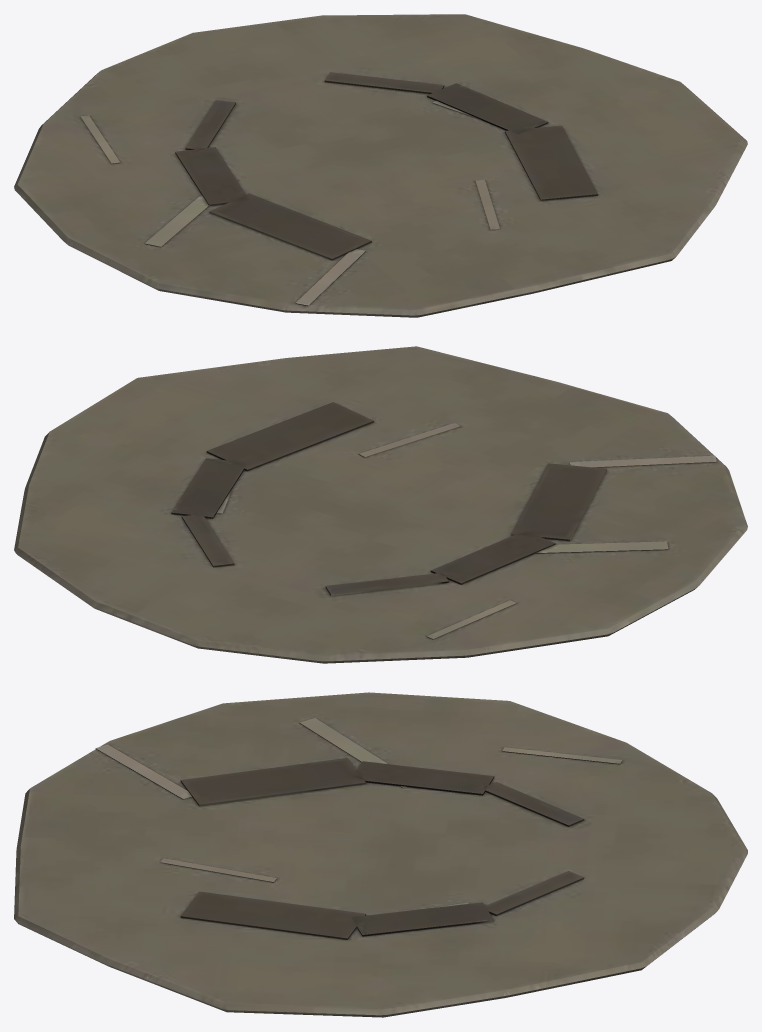
File: camp_mark_stilltusks.glb
The picture shows the model from 3 angles, top to bottom: view 1: azimuth 30°, elevation 25°; view 2: azimuth 150°, elevation 25°; view 3: azimuth 270°, elevation 25°; orthographic projection. The views are drawn at different scales.
Parts seen in each view (by area): view 1: camp_mark_stilltusks_body; view 2: camp_mark_stilltusks_body; view 3: camp_mark_stilltusks_body.
Boxes of the visible parts, x1=… form: camp_mark_stilltusks_body: x1=14, y1=14, x2=747, y2=317; camp_mark_stilltusks_body: x1=14, y1=346, x2=747, y2=663; camp_mark_stilltusks_body: x1=14, y1=692, x2=747, y2=1017.
Bounding box in the file's own units: 1.73 × 0.0245 × 1.67.
Materials: 1 (1 with a texture image).
